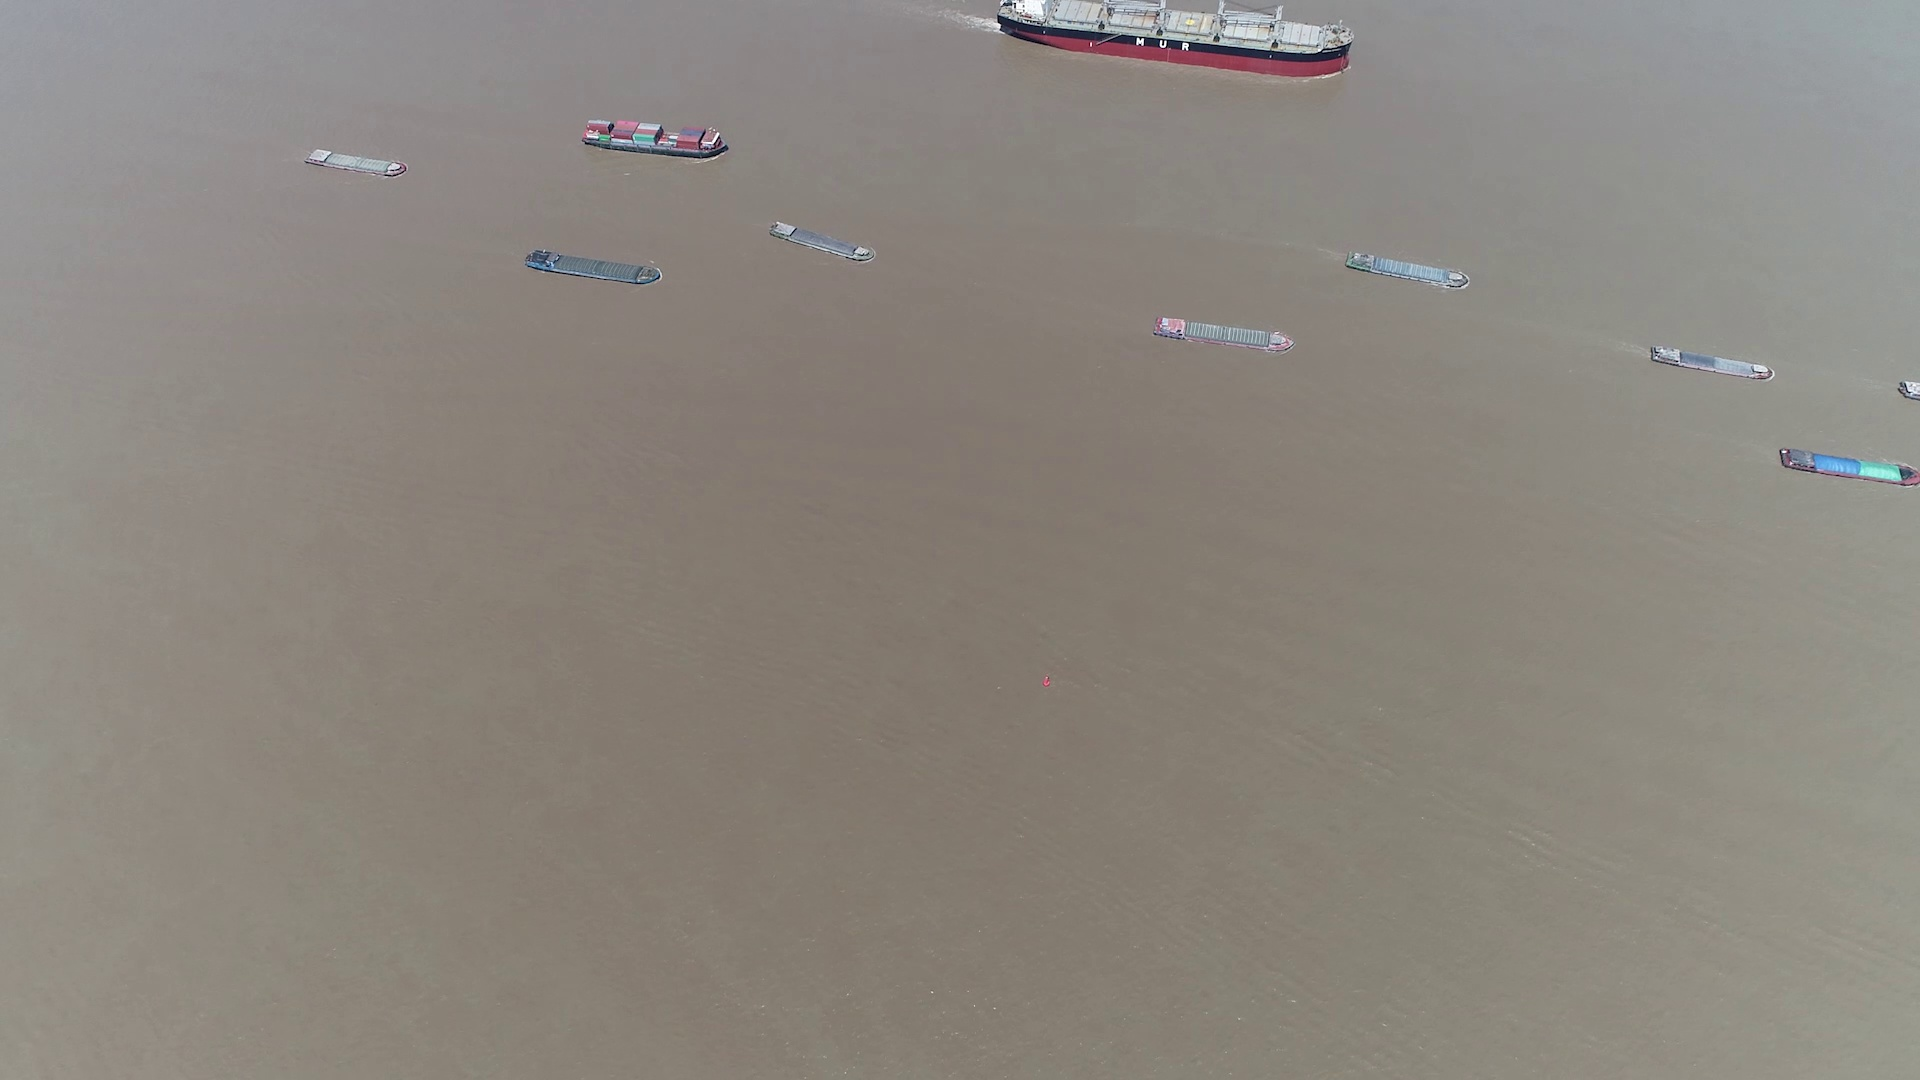ship: (997, 0, 1354, 76), (1778, 444, 1920, 487), (584, 120, 728, 160), (1154, 315, 1294, 352), (525, 249, 662, 286), (1344, 251, 1470, 290), (770, 222, 876, 264), (1647, 344, 1774, 378), (303, 146, 404, 178), (1898, 377, 1917, 401)
